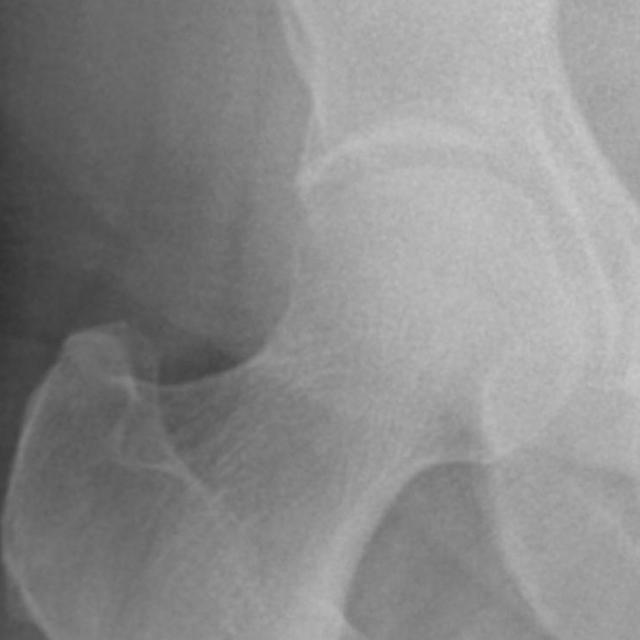Fitted_femural_head: (316, 160, 432, 316)
